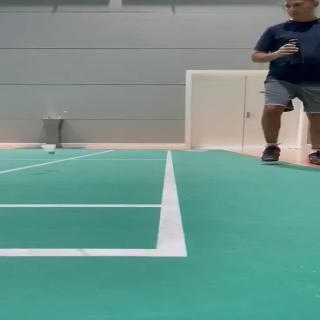Shuttle: (41, 144, 56, 155)
